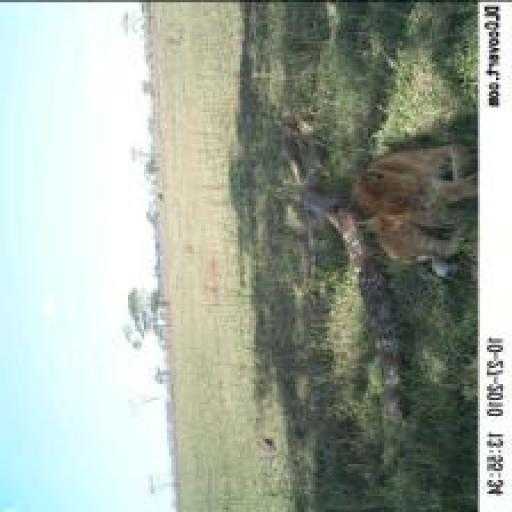lion: (336, 124, 475, 300)
